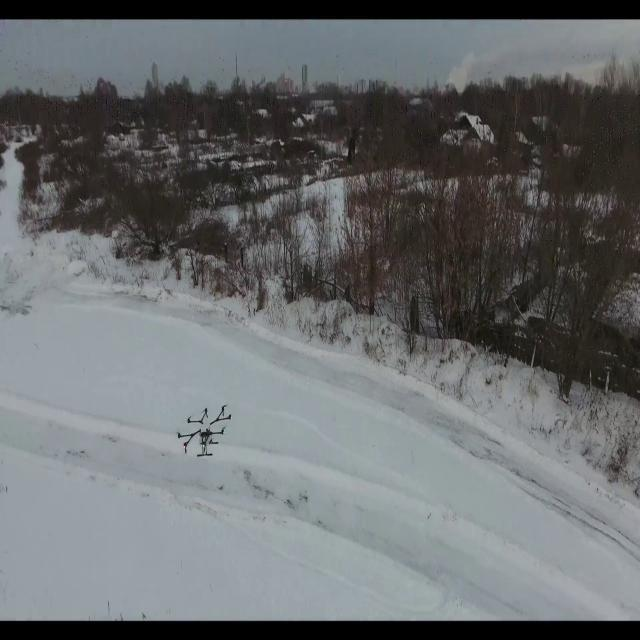Drons: (170, 398, 240, 460)
